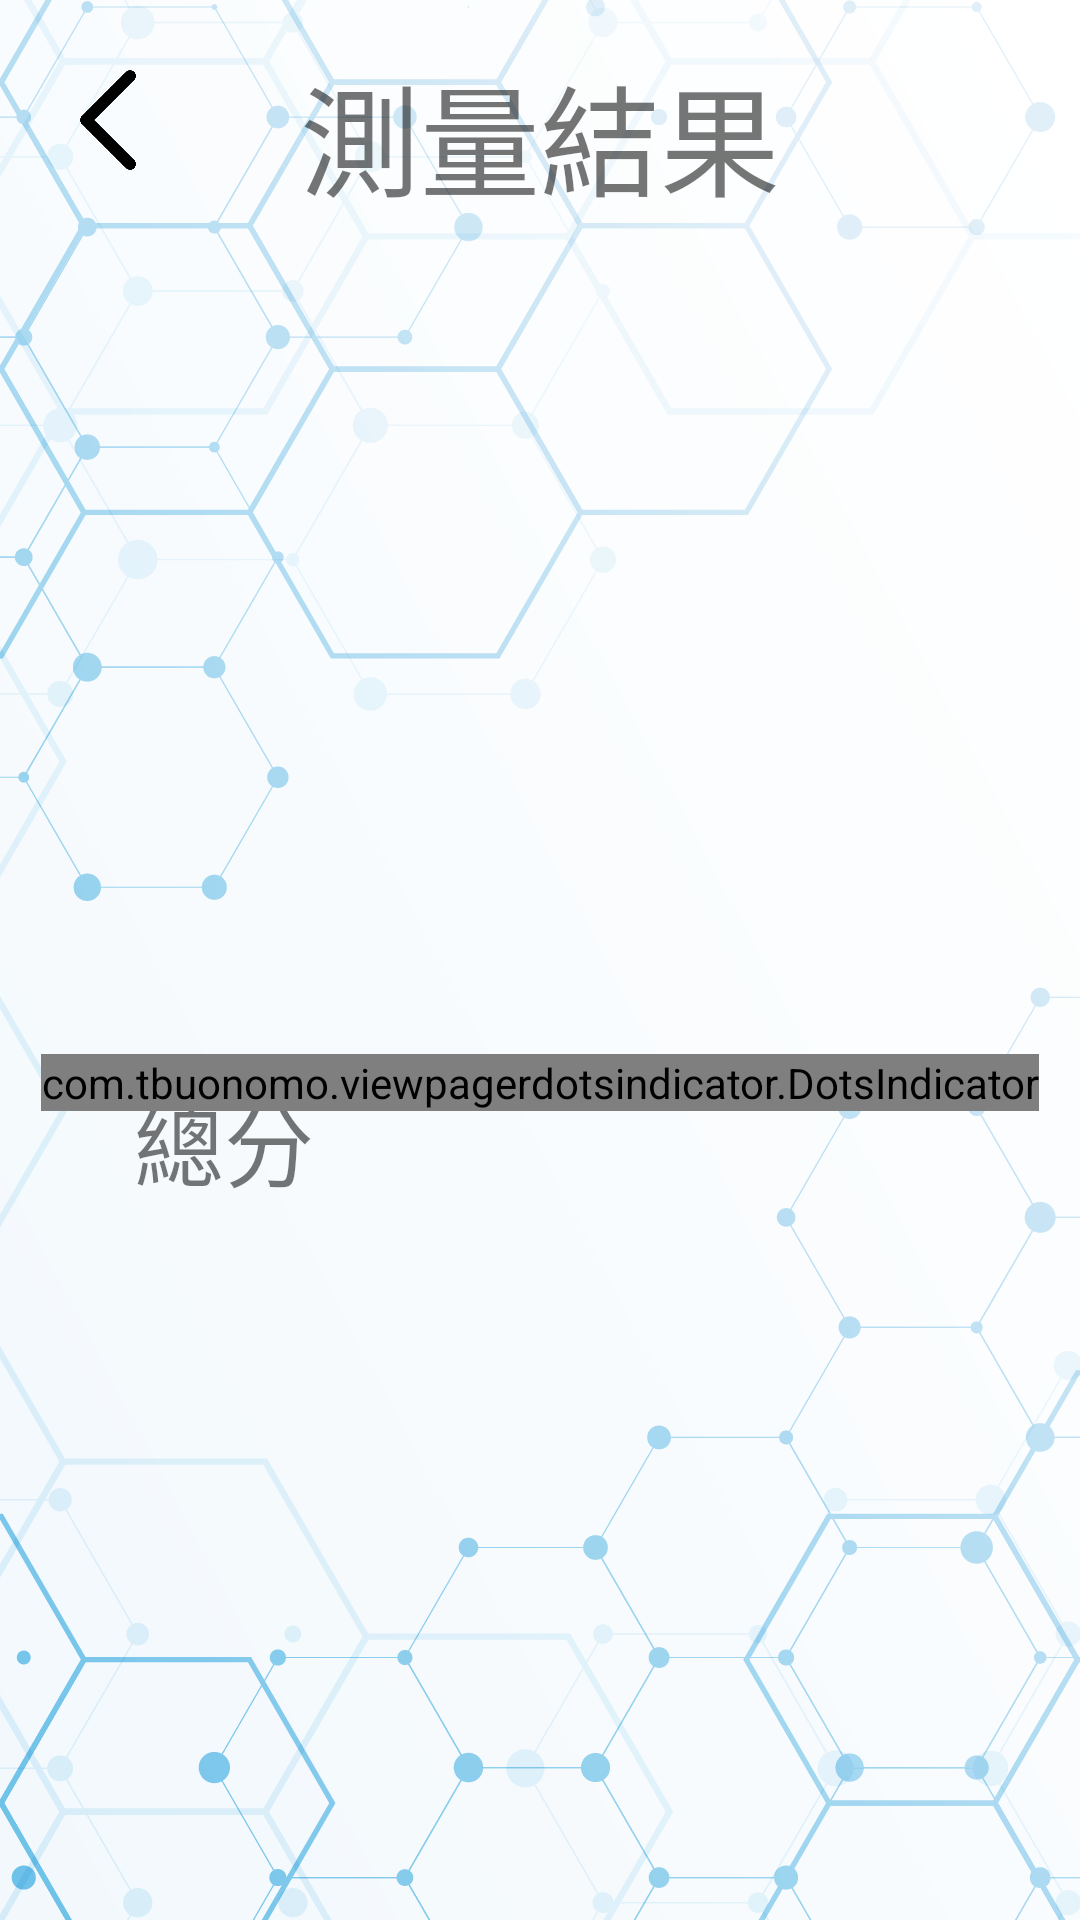

Screen size 1080 x 1920. Icon name, then its center in pixels as (x=x, y=y):
back: (x=108, y=120)
